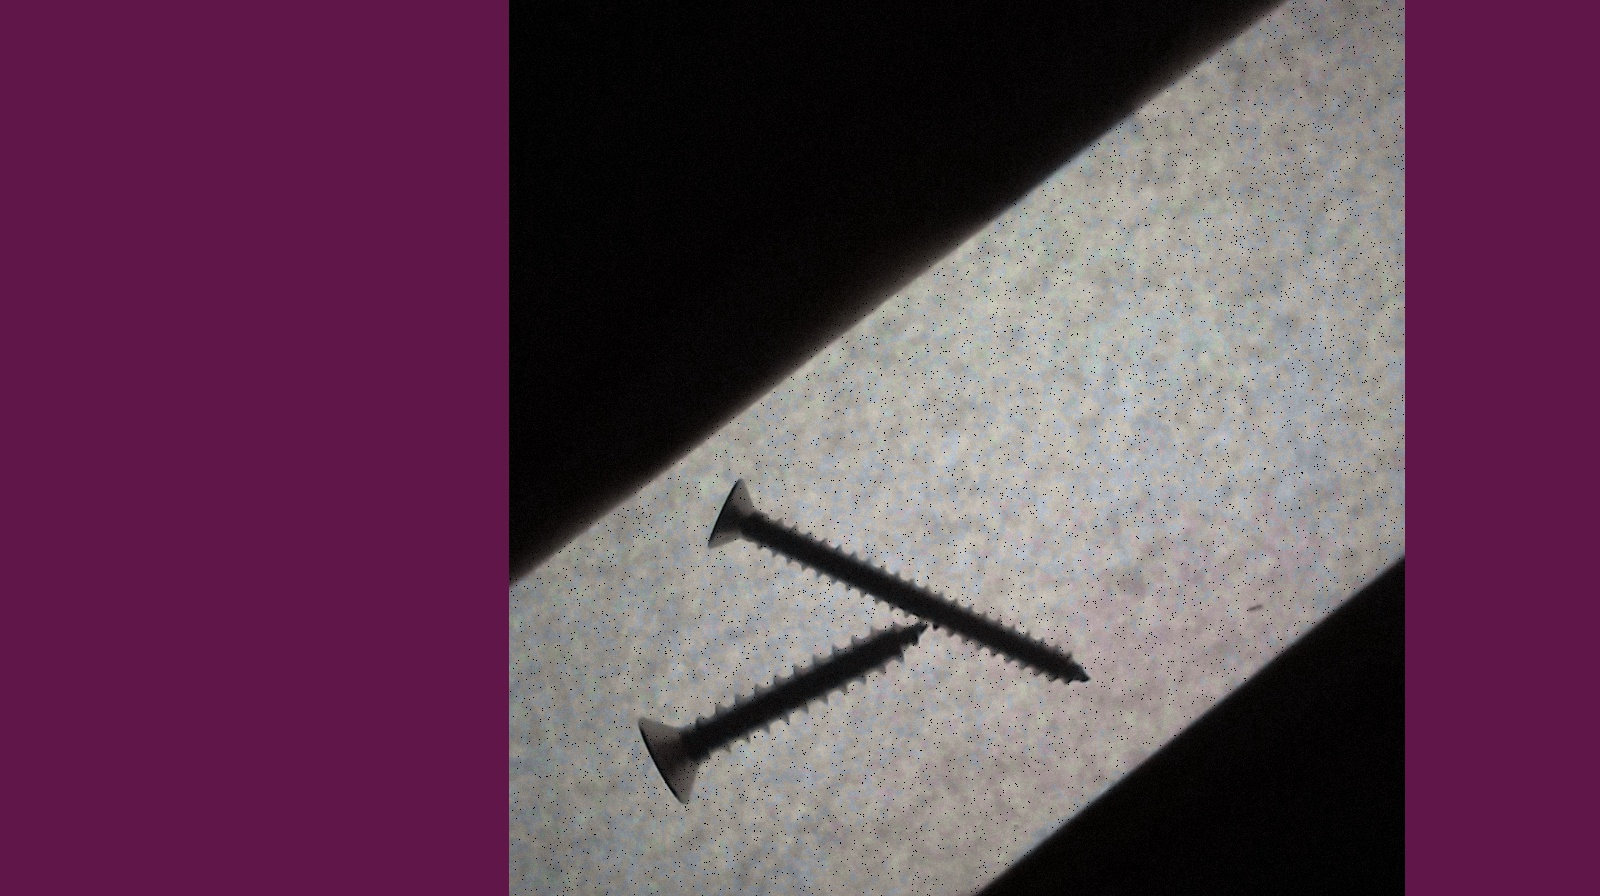S001: (635, 616, 934, 803)
S002: (708, 479, 1099, 683)
